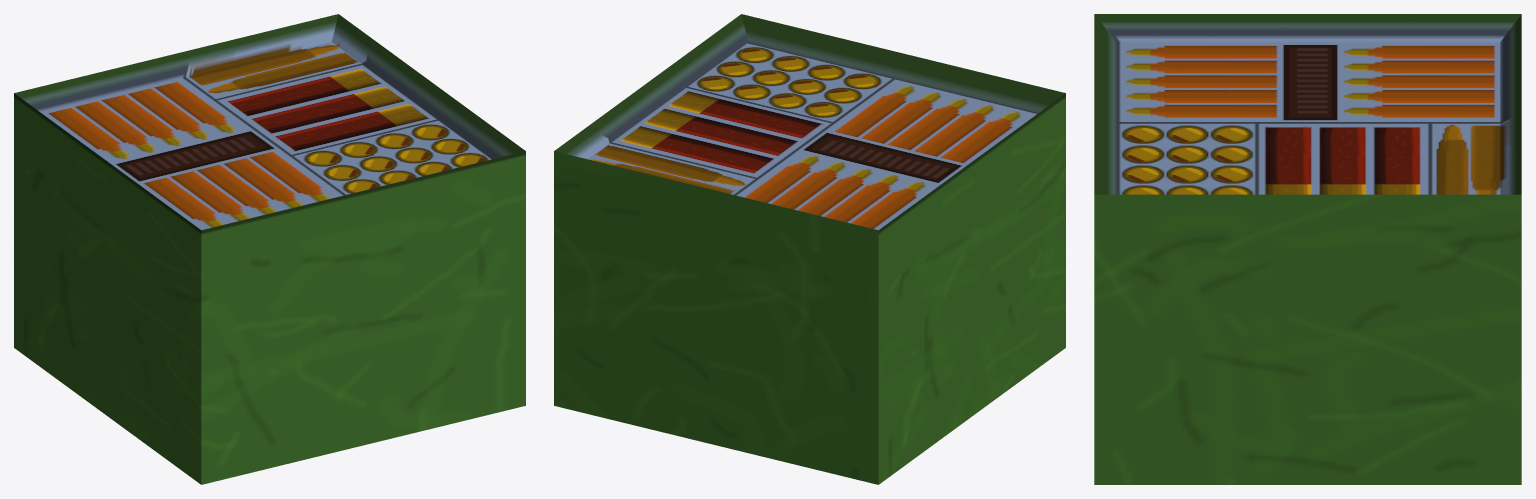
File: Bullet Box.fbx
3 renders of one model, left to right at view 1: azimuth 30°, elevation 25°; view 2: azimuth 150°, elevation 25°; view 3: azimuth 270°, elevation 25°, orthographic. The views are drawn at different scales.
Parts seen in each view (by area): view 1: Bullet Box; view 2: Bullet Box; view 3: Bullet Box.
Part boxes in pixels (x1=…): Bullet Box: x1=14, y1=14, x2=525, y2=484; Bullet Box: x1=554, y1=14, x2=1065, y2=484; Bullet Box: x1=1094, y1=14, x2=1521, y2=484.
Bounding box in the file's own units: 100 × 75 × 100.
1 material, 1 textured.
